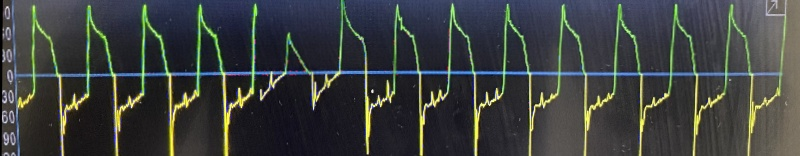hydrop_peepi: (0, 2, 774, 156)
